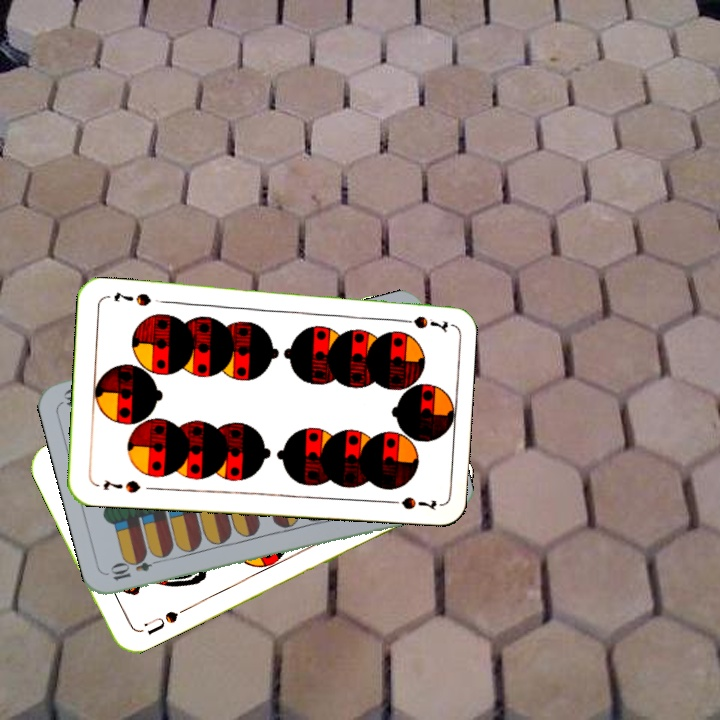E10: (106, 553, 165, 583)
S7: (391, 311, 450, 331), (99, 475, 143, 496)
SU: (141, 606, 181, 638)
